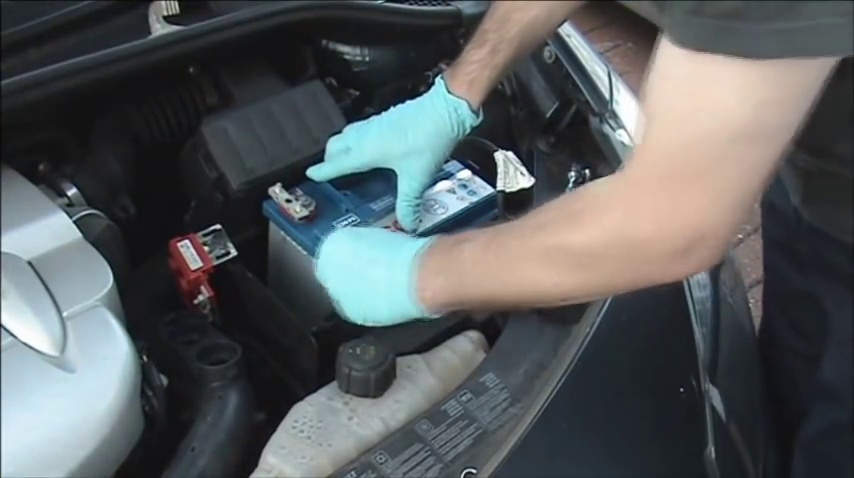battery: (259, 137, 508, 270)
pos_disconnected: (165, 164, 326, 294)
